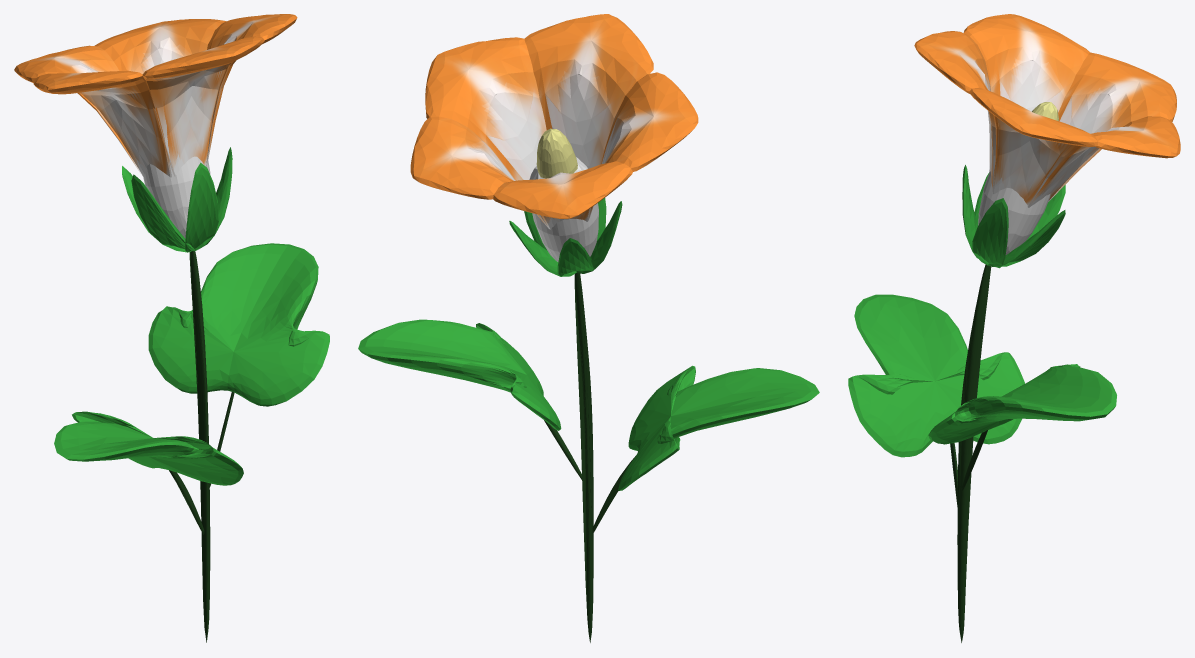
Rendered from Affection_Bindweed.glb.
The picture shows the model from 3 angles, left to right: view 1: azimuth 30°, elevation 25°; view 2: azimuth 150°, elevation 25°; view 3: azimuth 270°, elevation 25°; orthographic projection.
Parts seen in each view (by area): view 1: Cylinder.004; view 2: Cylinder.004; view 3: Cylinder.004.
Boxes of the visible parts, x1,y1,x2,y2 form: Cylinder.004: [14, 14, 329, 642]; Cylinder.004: [358, 14, 819, 642]; Cylinder.004: [848, 14, 1180, 642].
Size of the model in its own units: 7.86 by 13.12 by 6.57.
Materials: 4 (1 with a texture image).
